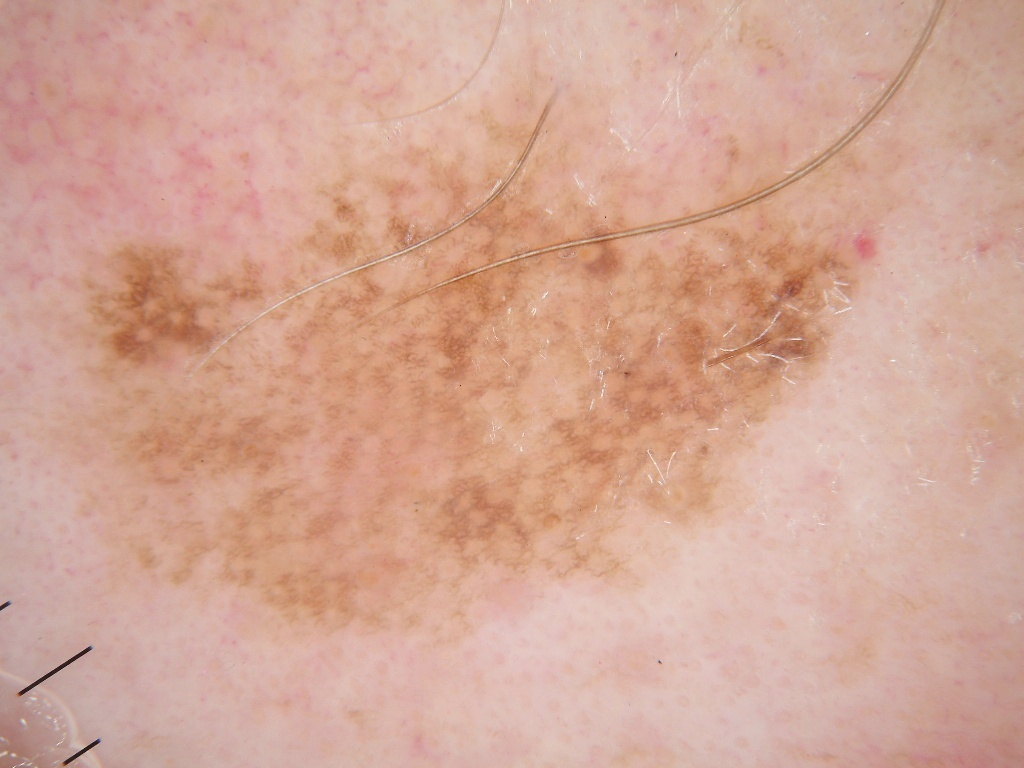Detected Lesion: (68, 99, 883, 657)
